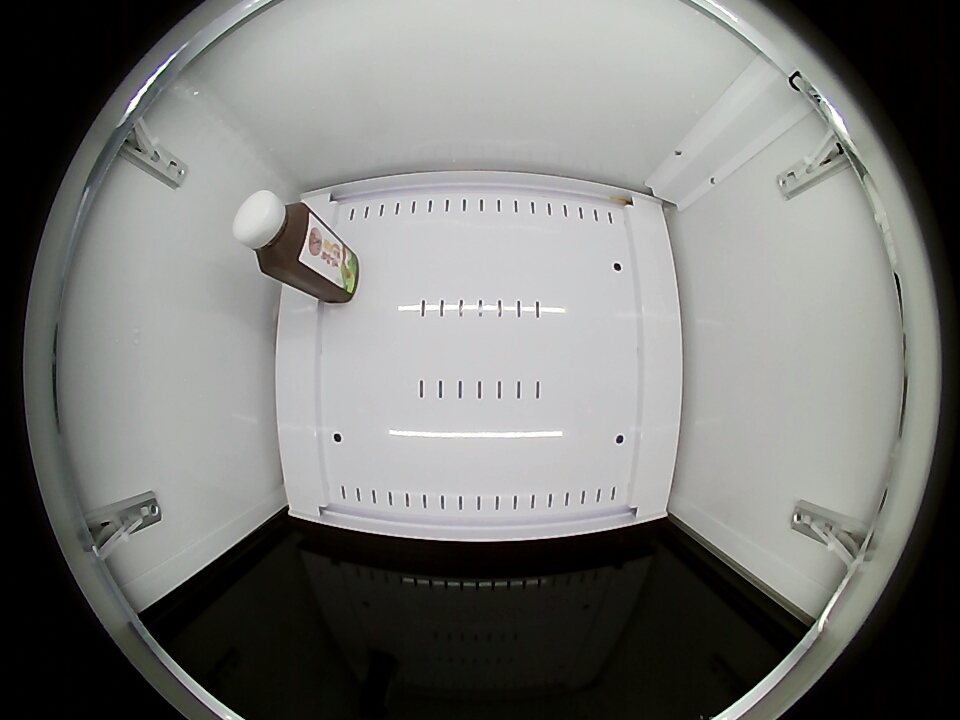youyanggudong: (232, 190, 313, 276)
